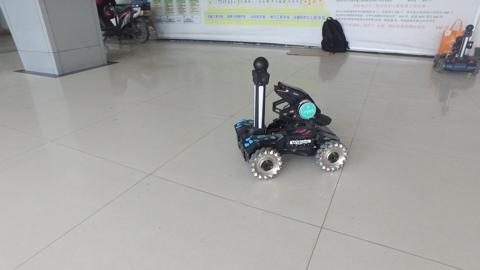bag: (318, 14, 352, 55), (439, 15, 466, 56)
chariot: (234, 55, 348, 180), (431, 23, 477, 75)
